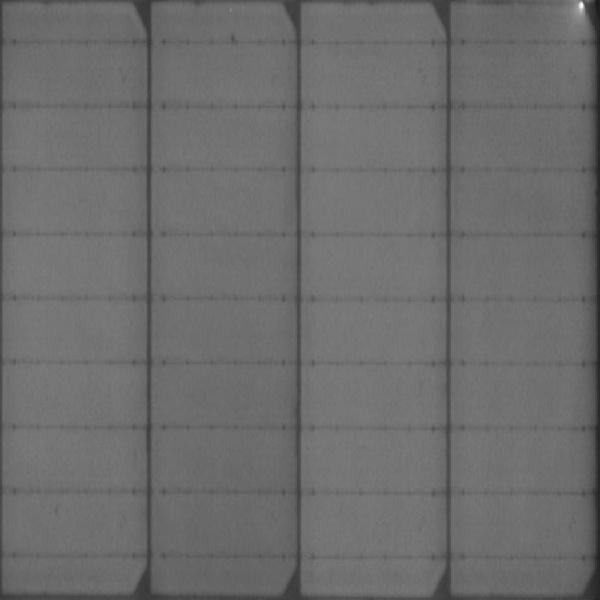hot_spot: (576, 1, 585, 12)
